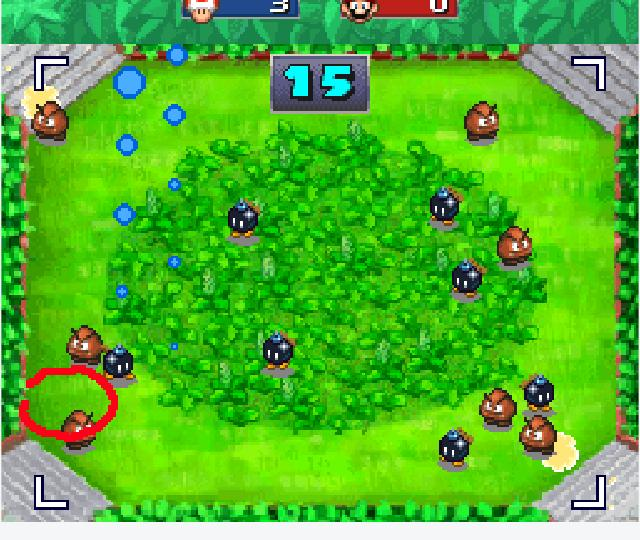bomb: (219, 194, 265, 248), (252, 326, 302, 373), (432, 425, 478, 475), (515, 371, 562, 419), (448, 253, 488, 306), (98, 338, 143, 385), (422, 187, 465, 233)
goomba: (25, 98, 73, 144), (459, 100, 505, 147), (516, 413, 562, 460), (473, 385, 521, 429), (488, 224, 537, 267), (62, 323, 108, 368), (58, 406, 100, 453)
